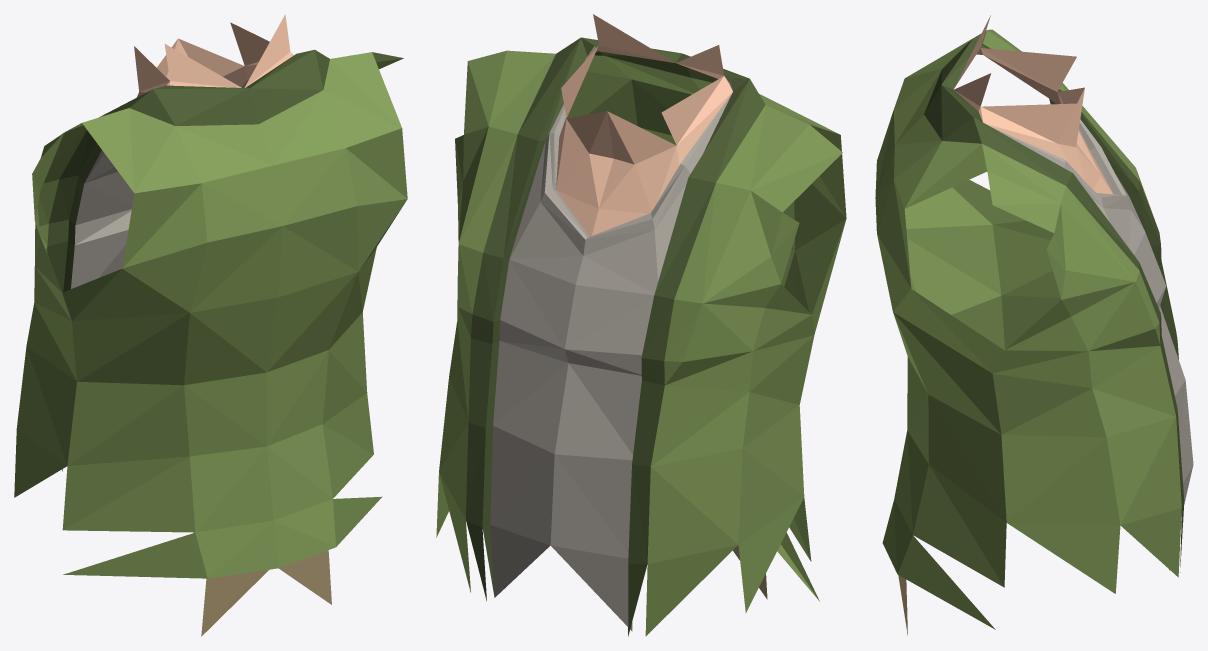
The model's file is Torso.obj.
The picture shows the model from 3 angles, left to right: view 1: azimuth 30°, elevation 25°; view 2: azimuth 150°, elevation 25°; view 3: azimuth 270°, elevation 25°; orthographic projection. The views are drawn at different scales.
Size of the model in its own units: 0.4988 by 0.7439 by 0.3818.
1 material, 1 textured.
